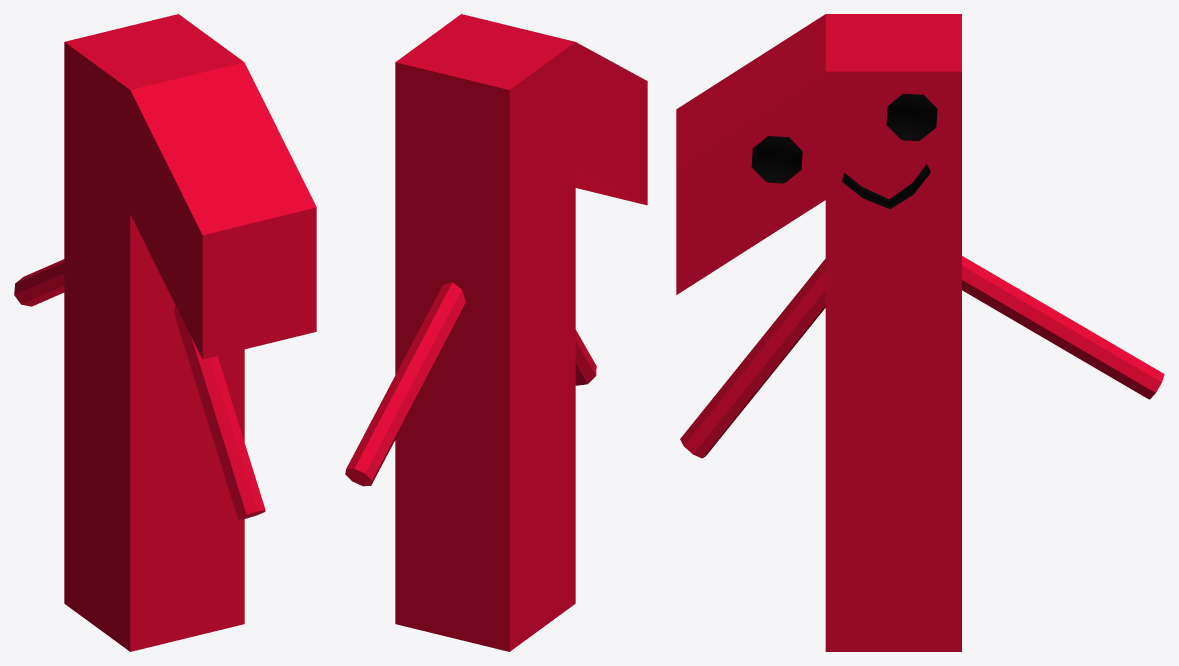
Rendered from MathVil1.fbx.
3 views of the same model, side by side, from view 1: azimuth 30°, elevation 25°; view 2: azimuth 150°, elevation 25°; view 3: azimuth 270°, elevation 25° (orthographic). The views are drawn at different scales.
Visible parts, largest first — view 1: Villager4; view 2: Villager4; view 3: Villager4.
Boxes of the visible parts, x1,y1,x2,y2 form: Villager4: (14, 14, 316, 651); Villager4: (345, 14, 647, 651); Villager4: (676, 14, 1164, 651).
Size of the model in its own units: 1.19 by 4.7 by 3.59.
